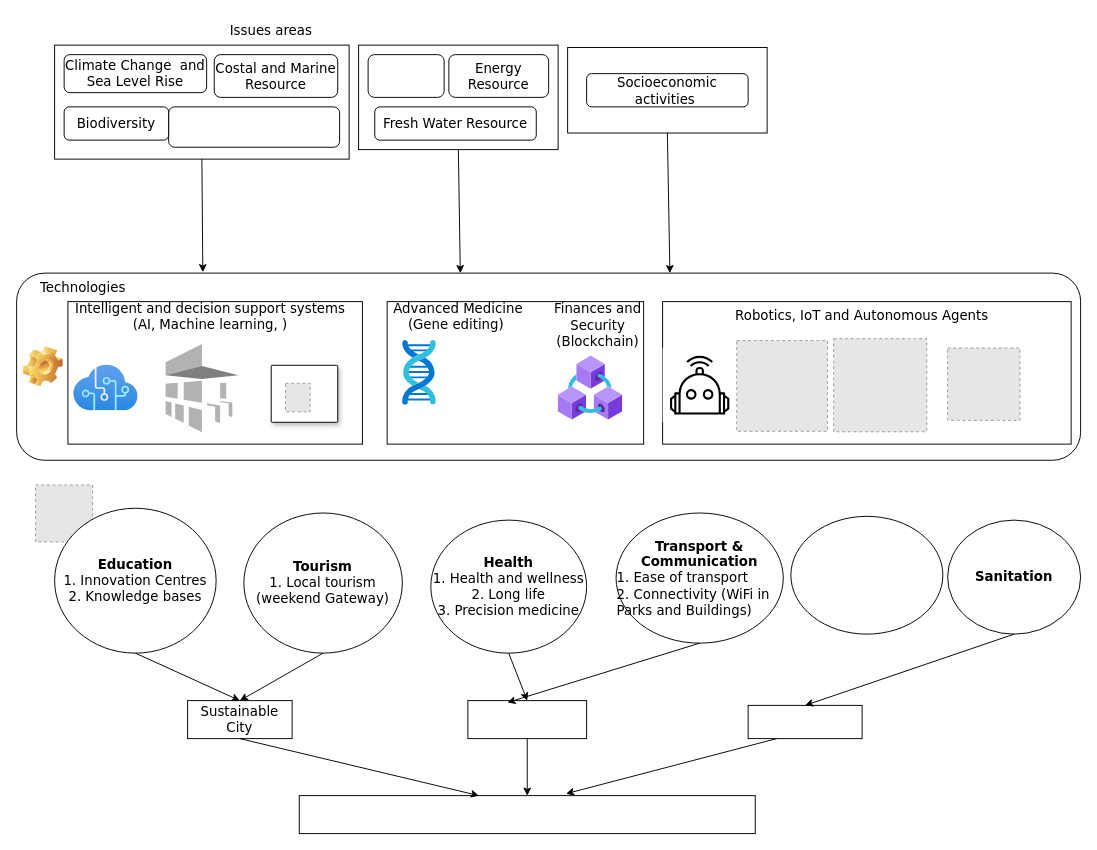
The diagram is 1097 pixels wide and 850 high, and some of its shapes have lost their labels. Grey dashed boxes stand in for pictures. Each missing label, with the centre of its shape:
"Energy 1. Clean energy" belongs at (866,574).
"Green City" belongs at (804,721).
"Hospitable/Livable City" belongs at (527,719).
"Land Resource" belongs at (405,75).
"Natural and Environmental Disasters" belongs at (254,126).
"Smart City" belongs at (526,814).
